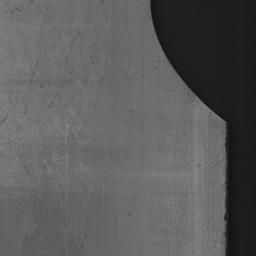Crescent gap: (150, 0, 224, 120)
